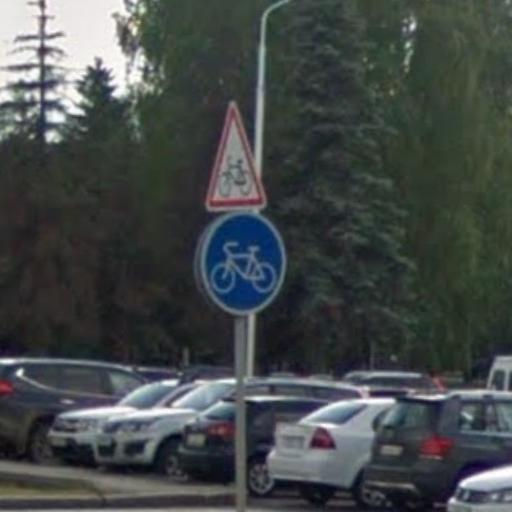traffic_sign: (201, 211, 290, 319), (205, 101, 270, 217)
